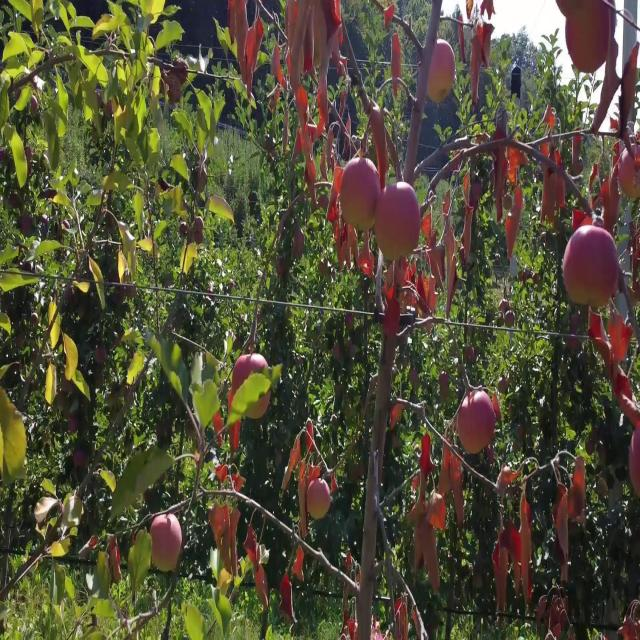apple: (564, 0, 616, 69), (376, 184, 423, 258), (492, 142, 528, 226), (460, 391, 498, 455), (344, 163, 379, 228), (588, 241, 620, 308), (228, 0, 264, 59), (589, 241, 620, 309), (392, 184, 421, 256), (240, 355, 272, 420), (152, 511, 184, 574), (496, 142, 529, 199), (564, 243, 591, 308), (312, 1, 343, 53), (540, 170, 568, 224), (464, 21, 494, 69), (432, 42, 456, 98), (616, 149, 640, 203), (308, 7, 336, 52), (608, 312, 632, 364), (620, 248, 640, 308), (440, 447, 464, 496), (472, 21, 493, 75), (600, 177, 621, 231), (624, 42, 640, 112), (504, 142, 529, 185), (224, 511, 242, 569), (568, 47, 601, 78), (416, 270, 437, 318), (208, 504, 230, 548), (308, 483, 332, 523), (228, 0, 249, 44), (288, 42, 306, 91), (428, 234, 446, 283), (500, 526, 523, 564), (456, 14, 474, 62), (228, 1, 248, 44), (220, 533, 240, 576), (604, 42, 621, 92), (464, 170, 484, 212), (488, 127, 508, 167), (624, 42, 640, 92), (248, 355, 270, 389), (428, 71, 448, 107), (572, 462, 587, 510), (168, 71, 188, 107), (288, 0, 309, 34), (428, 497, 448, 532), (392, 35, 404, 92), (248, 348, 269, 379), (232, 355, 250, 391), (244, 526, 259, 569), (556, 490, 570, 533), (420, 440, 436, 476), (380, 236, 401, 263), (384, 305, 401, 338), (396, 255, 412, 290), (0, 391, 15, 427), (612, 369, 627, 405), (588, 312, 604, 345), (632, 433, 640, 498), (64, 497, 84, 523), (8, 455, 27, 482), (500, 298, 516, 329), (228, 511, 242, 546), (228, 419, 243, 450), (596, 341, 612, 370), (276, 49, 287, 91), (312, 113, 327, 142), (480, 7, 496, 34), (488, 391, 502, 421), (292, 547, 304, 581), (496, 547, 509, 578), (556, 0, 576, 20), (300, 462, 313, 492), (172, 63, 188, 87), (324, 469, 338, 496), (420, 455, 436, 478), (456, 490, 465, 530), (248, 540, 260, 569), (72, 447, 87, 469), (304, 163, 319, 185), (308, 462, 323, 484), (392, 405, 405, 430), (304, 49, 315, 78), (564, 497, 575, 523), (384, 7, 396, 30), (412, 476, 427, 494), (212, 412, 224, 434), (440, 369, 449, 398), (104, 99, 118, 117), (408, 369, 420, 389), (308, 426, 316, 455), (24, 213, 33, 235), (96, 348, 107, 366), (336, 170, 344, 194), (392, 433, 402, 452), (96, 369, 105, 389), (296, 234, 304, 256), (228, 391, 236, 412), (68, 419, 79, 434), (348, 312, 356, 332), (336, 341, 343, 363), (296, 241, 305, 258), (348, 341, 356, 357), (280, 263, 287, 277)
